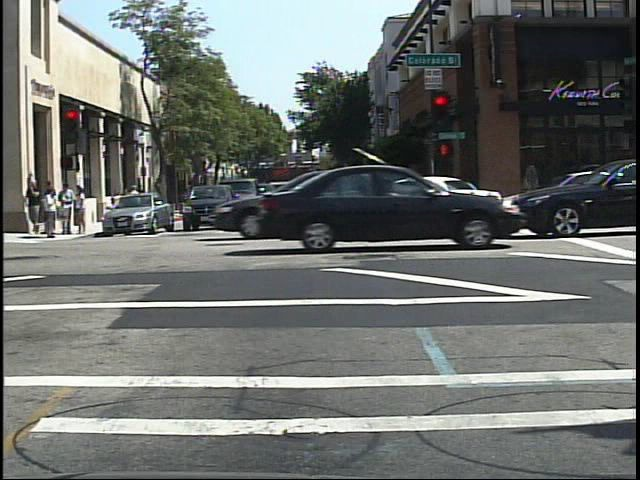person: (125, 181, 143, 220), (136, 181, 152, 219)
